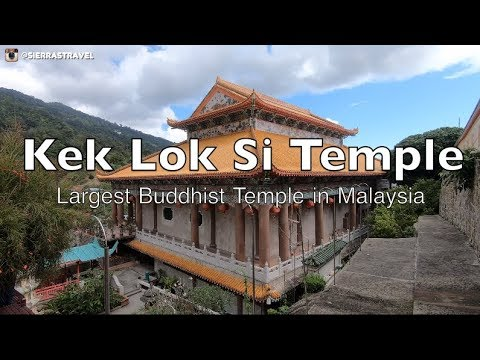Buddhist Temple: (120, 77, 379, 284)
